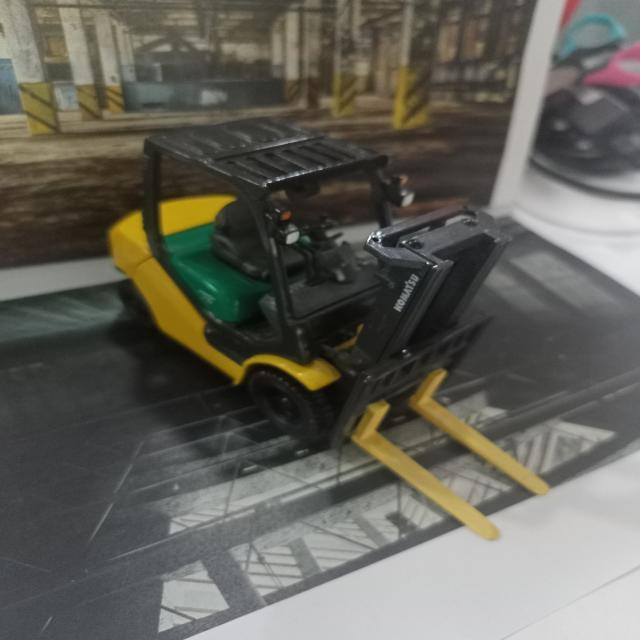forklift: (108, 121, 507, 439)
